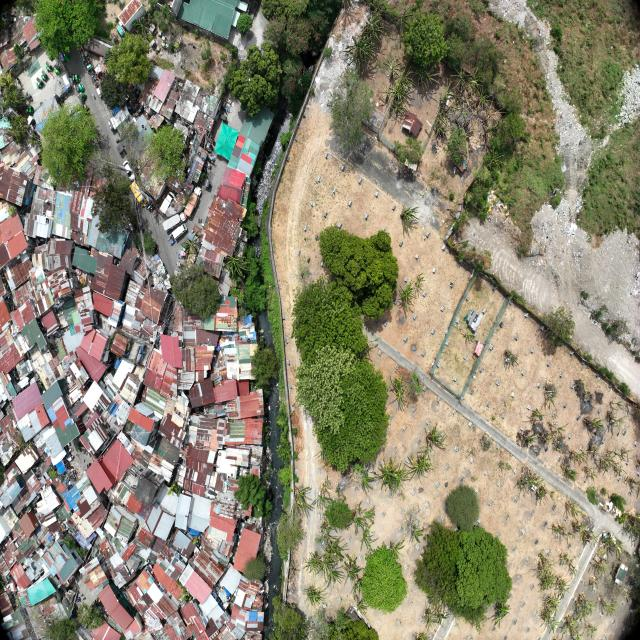Tree: (314, 359, 388, 477), (318, 224, 400, 322), (292, 276, 368, 366), (414, 518, 470, 621), (39, 100, 98, 188), (300, 346, 357, 435), (456, 526, 513, 614), (33, 0, 101, 62), (230, 41, 283, 120), (359, 541, 408, 616), (333, 74, 376, 152), (90, 170, 139, 236), (171, 260, 221, 324), (143, 124, 190, 190), (401, 12, 448, 72), (106, 29, 152, 90), (263, 12, 319, 61), (490, 110, 530, 163), (241, 244, 269, 314), (442, 482, 480, 532), (236, 472, 272, 523), (516, 467, 557, 508), (319, 524, 345, 588), (387, 370, 423, 416), (251, 338, 280, 395), (543, 305, 576, 355), (282, 56, 310, 111), (376, 453, 409, 496), (100, 71, 132, 115), (340, 606, 380, 640), (345, 30, 378, 71), (276, 513, 307, 554), (272, 596, 304, 634), (363, 2, 388, 49), (312, 610, 351, 640), (444, 126, 471, 169), (0, 66, 24, 110), (406, 446, 435, 482), (411, 63, 442, 95), (394, 136, 424, 169), (324, 499, 353, 531), (301, 581, 328, 615), (535, 548, 556, 591), (446, 31, 468, 71), (76, 602, 107, 630), (423, 599, 450, 631), (574, 588, 596, 626), (224, 250, 247, 286), (542, 586, 560, 632), (426, 421, 449, 456), (474, 80, 494, 118), (10, 113, 32, 147), (343, 552, 364, 587), (243, 554, 268, 583), (294, 484, 314, 520), (453, 97, 474, 131), (390, 79, 412, 111), (397, 277, 417, 312), (576, 522, 600, 551), (547, 418, 570, 447), (561, 611, 584, 640), (595, 448, 617, 478), (550, 522, 576, 547), (450, 64, 470, 96), (435, 102, 451, 142), (399, 202, 419, 234), (491, 599, 512, 629), (623, 509, 640, 546), (544, 378, 562, 412), (590, 554, 612, 581), (552, 570, 571, 601), (382, 56, 403, 84), (608, 410, 629, 438), (473, 164, 494, 191), (303, 549, 325, 574), (585, 413, 604, 441), (352, 594, 370, 622), (599, 593, 617, 620), (565, 492, 581, 520), (244, 212, 260, 240), (312, 489, 330, 512), (529, 406, 547, 429), (360, 467, 374, 496), (569, 449, 589, 468), (237, 13, 253, 36), (507, 342, 520, 370), (362, 506, 377, 530), (350, 515, 366, 537), (136, 17, 153, 37), (380, 84, 396, 105), (563, 464, 579, 485), (462, 325, 477, 346), (278, 466, 292, 487), (411, 526, 424, 548), (415, 270, 425, 298), (609, 395, 625, 412), (498, 459, 512, 475)
